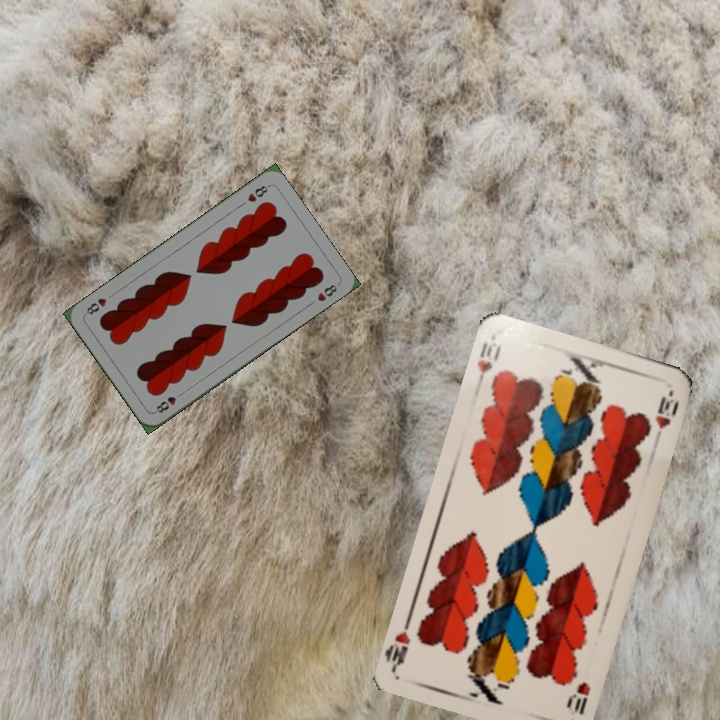H10: (472, 334, 504, 392), (563, 677, 594, 717)
H8: (151, 387, 186, 416), (243, 181, 272, 205)
